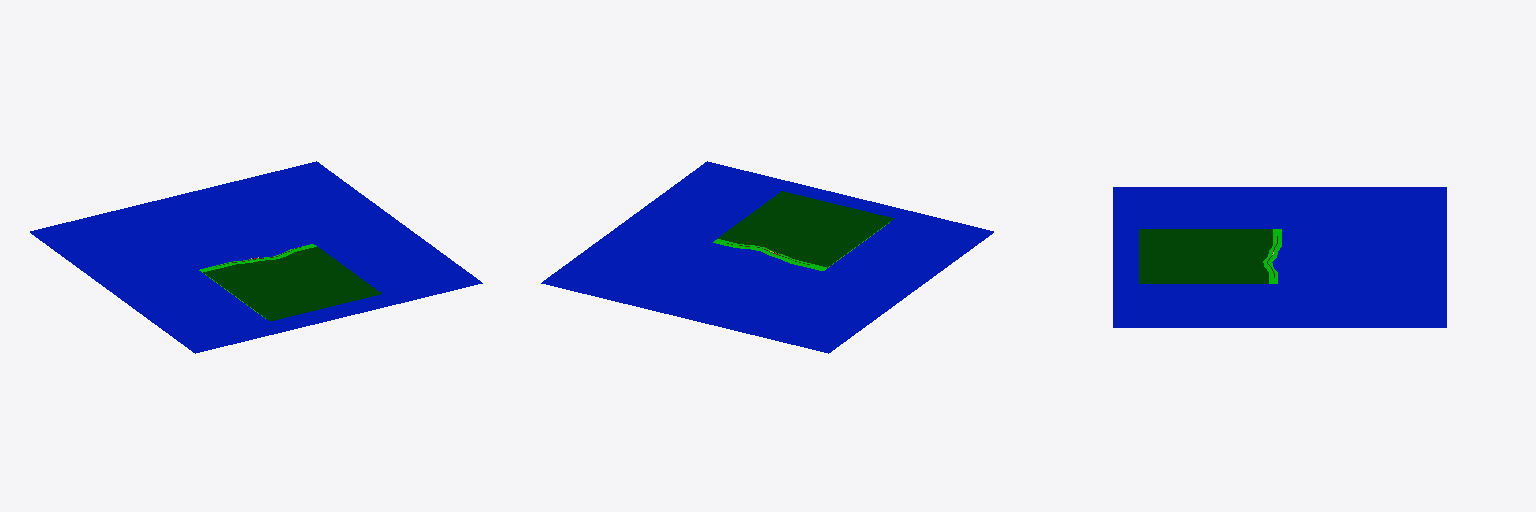
The model's file is menu_background.obj.
3 views of the same model, side by side, from view 1: azimuth 30°, elevation 25°; view 2: azimuth 150°, elevation 25°; view 3: azimuth 270°, elevation 25° (orthographic).
Parts seen in each view (by area): view 1: Plane, GrassDark; view 2: Plane, GrassDark, GrassLight; view 3: Plane, GrassDark.
Part boxes in pixels (x1,y1,x2,y2): Plane: (30, 161, 482, 353); GrassDark: (203, 247, 381, 321); Plane: (541, 161, 993, 353); GrassDark: (717, 191, 894, 267); GrassLight: (713, 222, 889, 270); Plane: (1113, 187, 1446, 327); GrassDark: (1139, 229, 1272, 283).
Size of the model in its own units: 50 by 0.5 by 50.